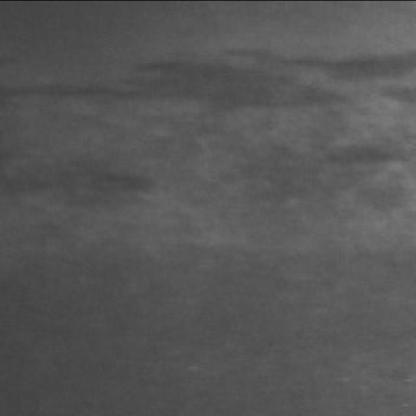inclusion: (0, 48, 410, 119), (247, 131, 410, 221), (0, 154, 158, 214)
